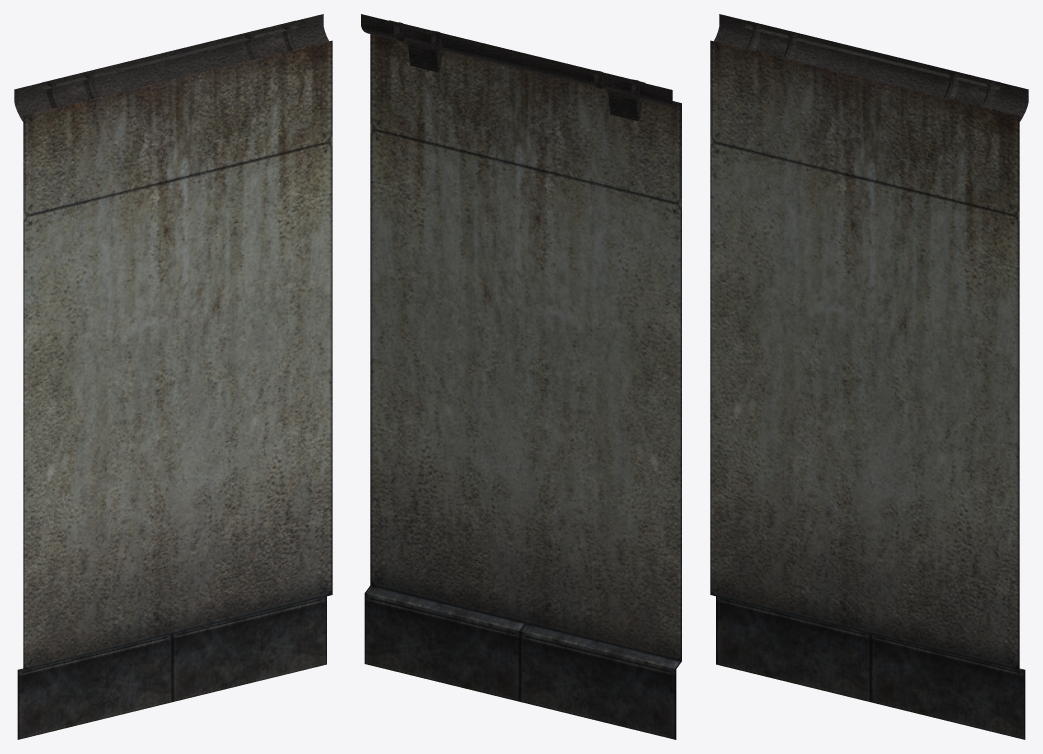
The model's file is lab_flat_short_rusty.dae.
3 renders of one model, left to right at view 1: azimuth 30°, elevation 25°; view 2: azimuth 150°, elevation 25°; view 3: azimuth 330°, elevation 25°, orthographic.
Parts seen in each view (by area): view 1: lab_flat_short; view 2: lab_flat_short; view 3: lab_flat_short.
Boxes of the visible parts, x1=… form: lab_flat_short: x1=14, y1=14, x2=332, y2=739; lab_flat_short: x1=361, y1=14, x2=681, y2=739; lab_flat_short: x1=710, y1=14, x2=1028, y2=739.
Bounding box in the file's own units: 2 × 4 × 0.1056.
